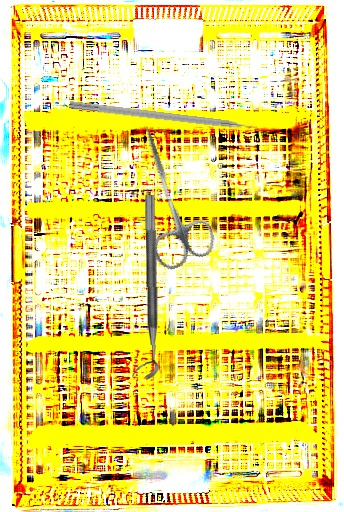Chopper: (67, 100, 268, 144)
Fixation Ring: (128, 195, 160, 380)
Iris Scissors: (114, 116, 220, 274)
